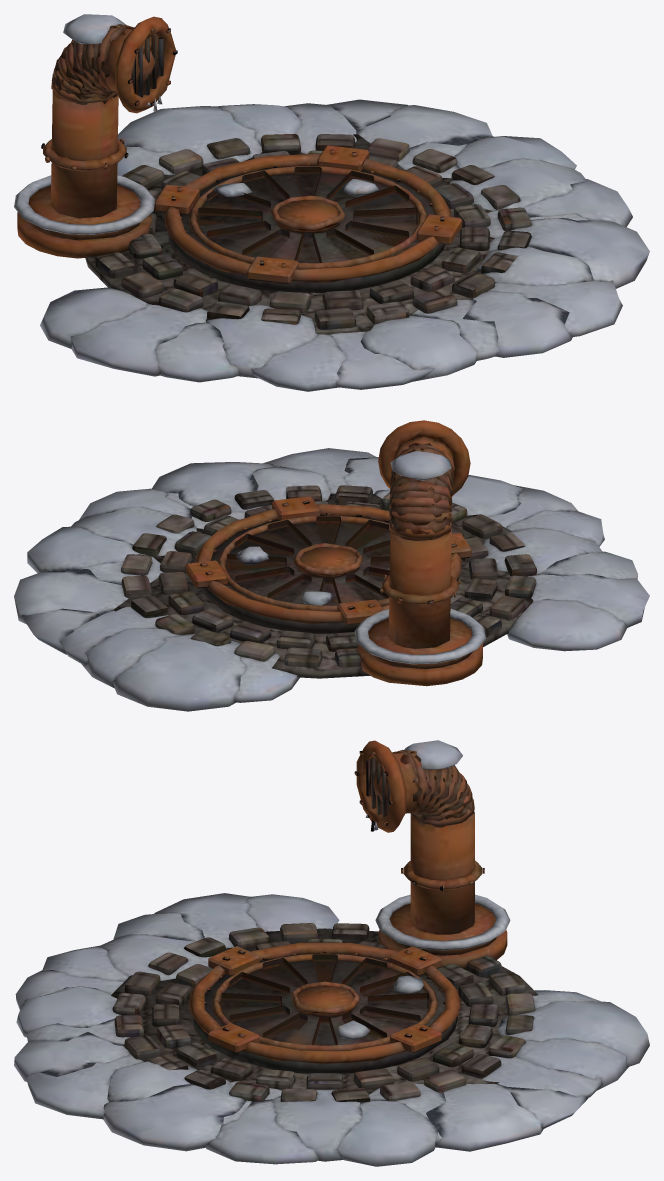
Rendered from vent.glb.
3 views of the same model, one above another, from view 1: azimuth 30°, elevation 25°; view 2: azimuth 150°, elevation 25°; view 3: azimuth 270°, elevation 25° (orthographic). The views are drawn at different scales.
Visible parts, largest first — view 1: model; view 2: model; view 3: model.
Part boxes in pixels (box(x1,y1,x2,y2)): model: box(14, 14, 649, 391); model: box(14, 420, 649, 711); model: box(14, 740, 649, 1166).
Bounding box in the file's own units: 2.93 × 1.25 × 2.97.
Materials: 2 (2 with a texture image).
